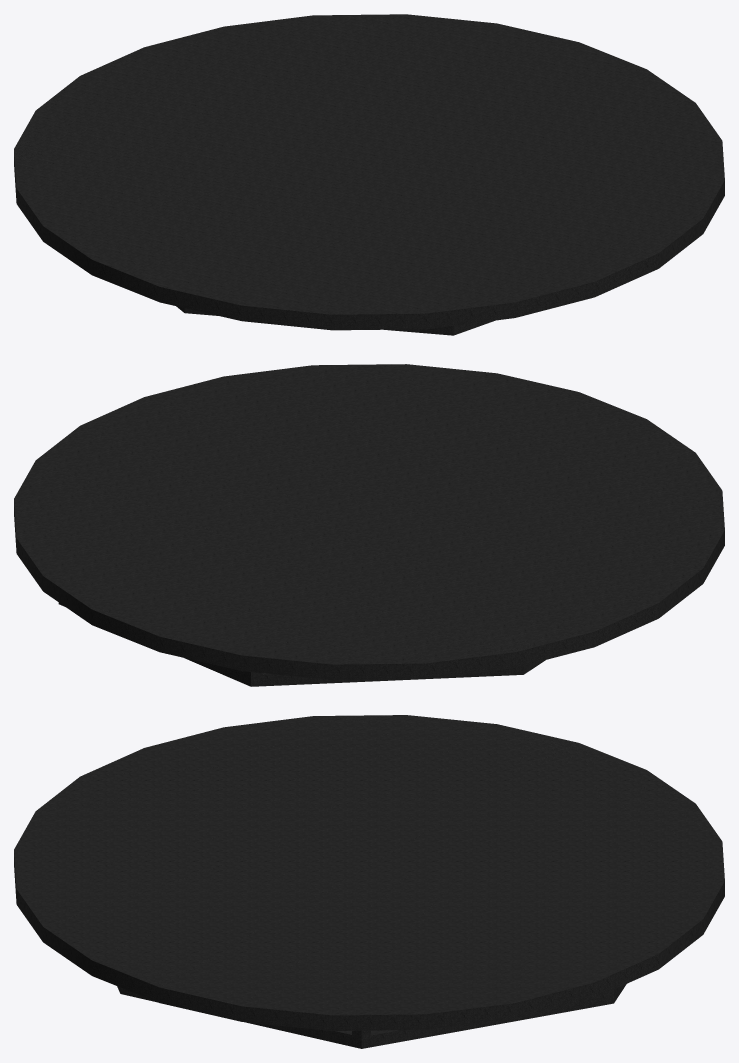
Rendered from colony-boundary-new.fbx.
The picture shows the model from 3 angles, top to bottom: view 1: azimuth 30°, elevation 25°; view 2: azimuth 150°, elevation 25°; view 3: azimuth 270°, elevation 25°; orthographic projection.
Visible parts, largest first — view 1: Model; view 2: Model; view 3: Model.
Boxes of the visible parts, bbox=[...] form: Model: bbox=[14, 14, 724, 335]; Model: bbox=[14, 364, 724, 686]; Model: bbox=[14, 715, 724, 1048].
Bounding box in the file's own units: 90.48 × 6.51 × 90.48.
